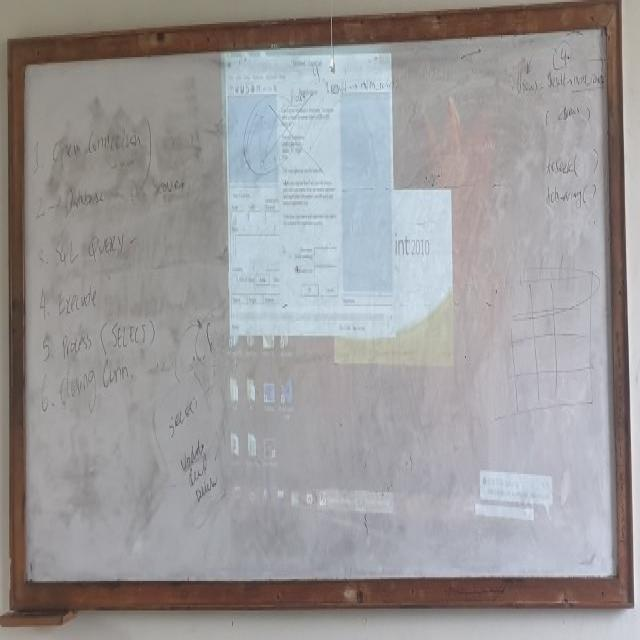Slide: (224, 23, 586, 536)
White-board: (16, 11, 624, 596)
